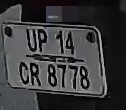1: (55, 30, 66, 55)
4: (65, 30, 75, 55)
7: (67, 63, 79, 90), (58, 65, 68, 90)
8: (79, 66, 91, 92), (46, 63, 57, 88)
C: (16, 61, 30, 86)
P: (36, 28, 49, 52)
R: (29, 63, 44, 87)
U: (25, 28, 38, 52)
